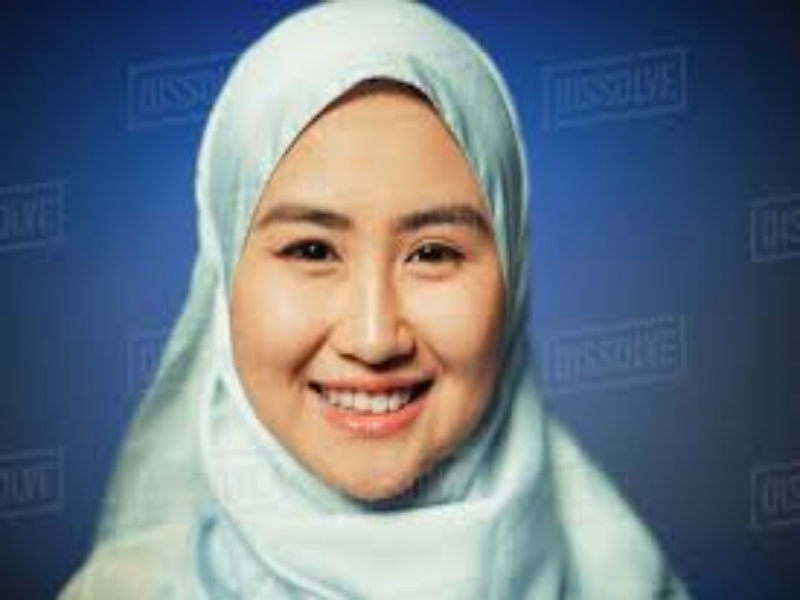face: (249, 128, 499, 459)
